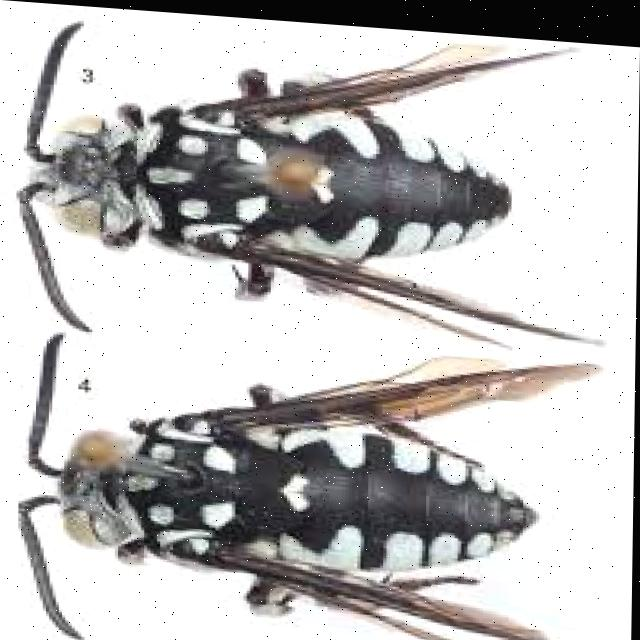Thyreus: (21, 315, 603, 640), (0, 14, 557, 338)
